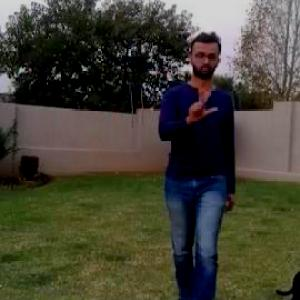land_hand: (183, 86, 220, 128)
